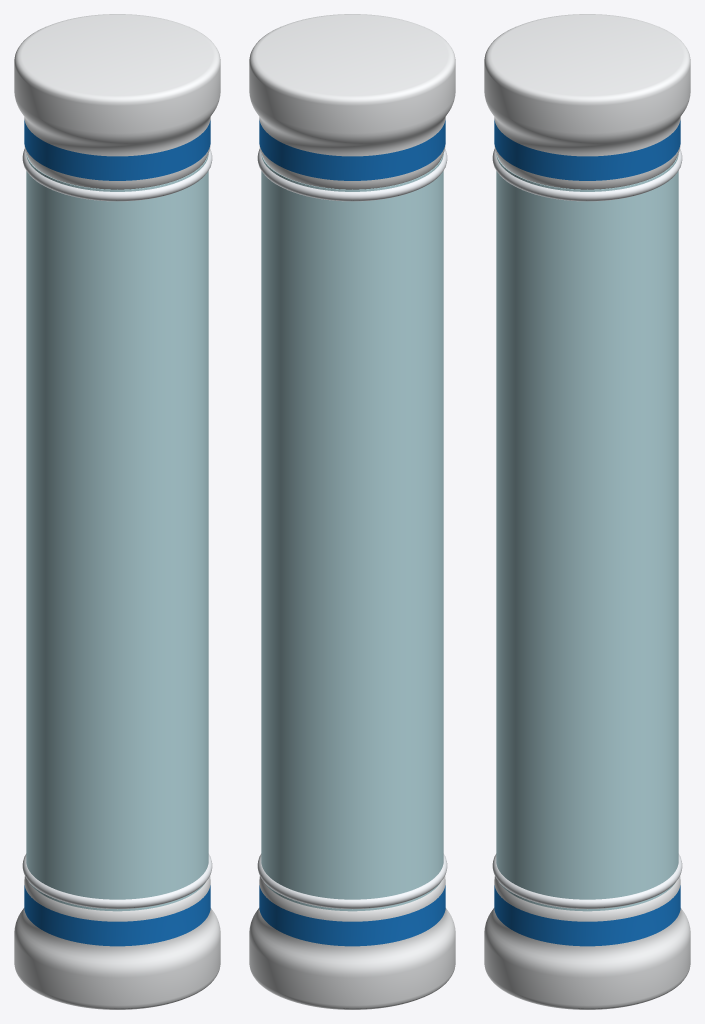
File: Pillar_D04_BubbleTube.fbx
3 renders of one model, left to right at view 1: azimuth 30°, elevation 25°; view 2: azimuth 150°, elevation 25°; view 3: azimuth 270°, elevation 25°, orthographic.
Parts seen in each view (by area): view 1: Pillar_D04_BubbleTube; view 2: Pillar_D04_BubbleTube; view 3: Pillar_D04_BubbleTube.
Boxes of the visible parts, box(x1,y1,x2,y2) form: Pillar_D04_BubbleTube: box(14, 14, 220, 1009); Pillar_D04_BubbleTube: box(249, 14, 455, 1009); Pillar_D04_BubbleTube: box(484, 14, 690, 1009).
Bounding box in the file's own units: 0.82 × 4 × 0.82.
